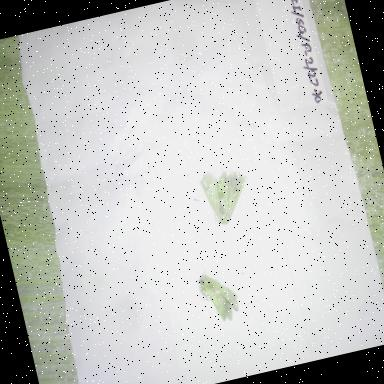abw: (188, 156, 260, 236), (190, 256, 253, 334)
